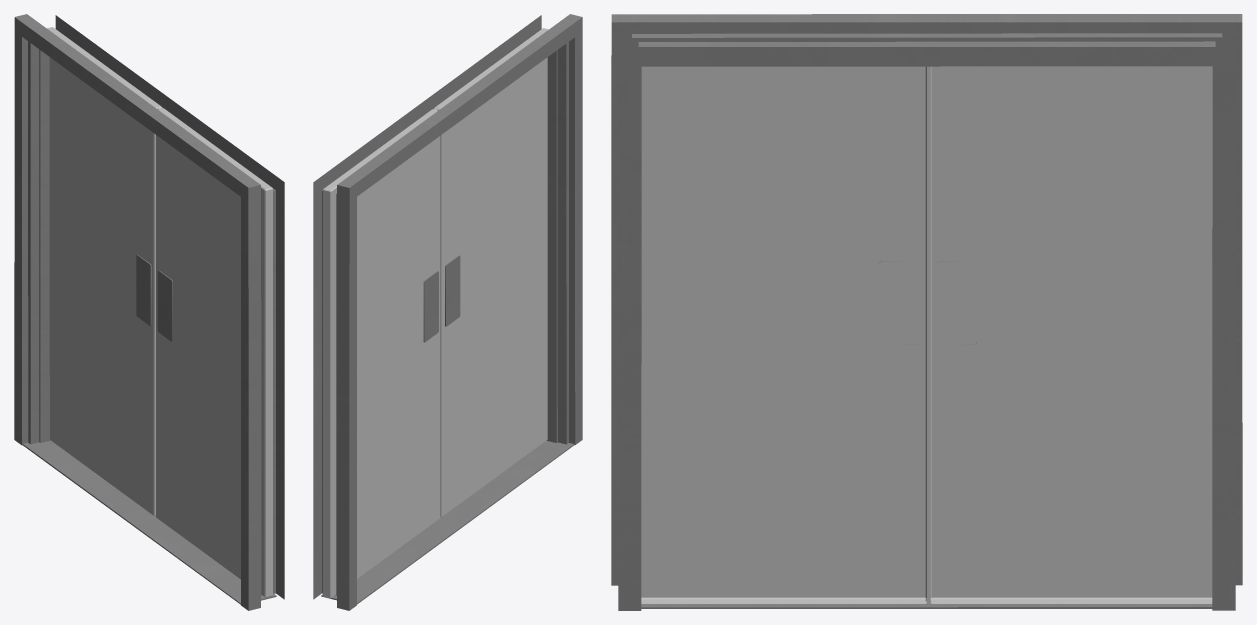
The model's file is SM_Door_Utility_01.fbx.
The picture shows the model from 3 angles, left to right: view 1: azimuth 30°, elevation 25°; view 2: azimuth 150°, elevation 25°; view 3: azimuth 270°, elevation 25°; orthographic projection. The views are drawn at different scales.
Visible parts, largest first — view 1: SM_Door_Utility_01_LOD0; view 2: SM_Door_Utility_01_LOD0; view 3: SM_Door_Utility_01_LOD0.
Boxes of the visible parts, x1,y1,x2,y2 form: SM_Door_Utility_01_LOD0: (14, 14, 284, 610); SM_Door_Utility_01_LOD0: (313, 14, 582, 610); SM_Door_Utility_01_LOD0: (611, 14, 1242, 610).
Size of the model in its own units: 25.37 by 264 by 264.
